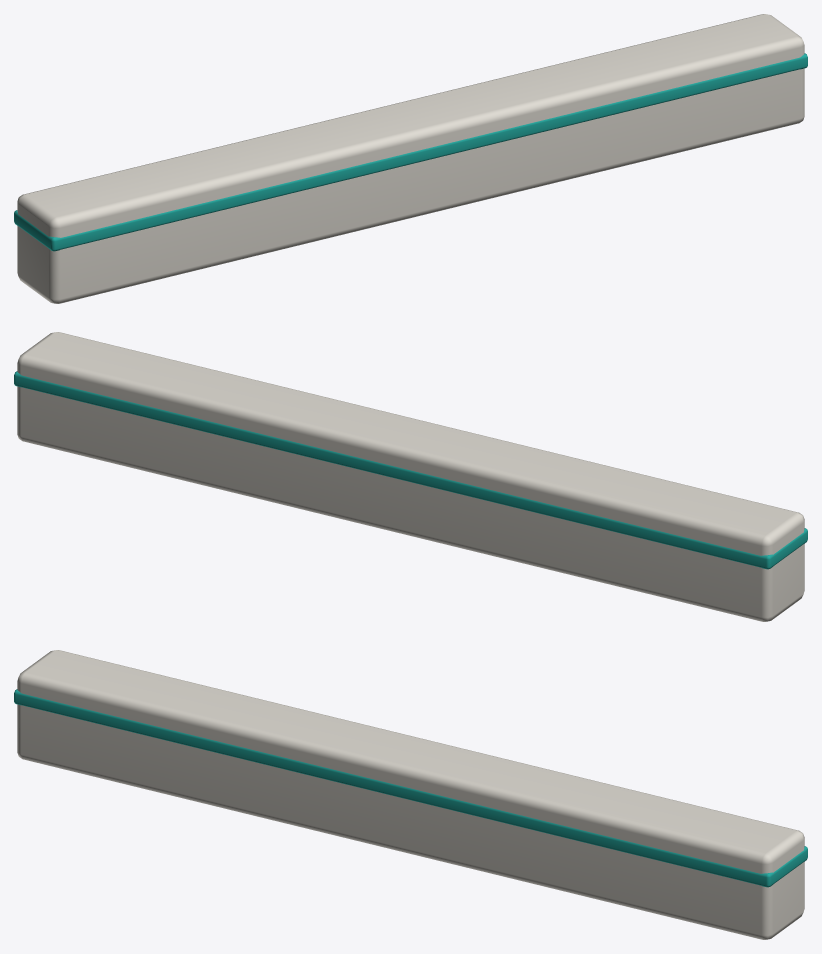
File: dune_monorail_beam.glb
3 renders of one model, top to bottom at view 1: azimuth 30°, elevation 25°; view 2: azimuth 150°, elevation 25°; view 3: azimuth 330°, elevation 25°, orthographic.
Visible parts, largest first — view 1: Beam; view 2: Beam; view 3: Beam.
Boxes of the visible parts, x1=… form: Beam: x1=14, y1=14, x2=807, y2=303; Beam: x1=14, y1=332, x2=807, y2=621; Beam: x1=14, y1=650, x2=807, y2=939.
Bounding box in the file's own units: 10.02 × 1.1 × 0.92.
